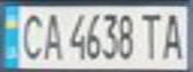3: (100, 10, 121, 61)
4: (63, 9, 87, 61)
6: (84, 10, 103, 61)
8: (115, 10, 139, 61)
A: (157, 9, 190, 61), (39, 9, 66, 61)
C: (15, 9, 48, 61)
T: (136, 10, 163, 61)
